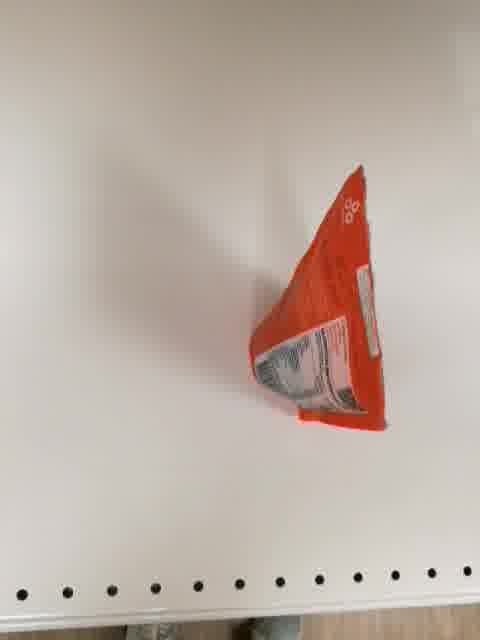whitechia: (247, 163, 389, 434)
